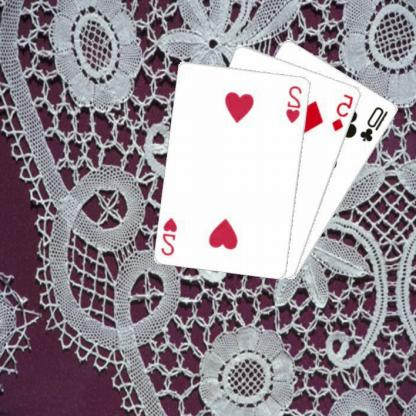10C: (359, 104, 391, 144)
2H: (285, 82, 306, 125), (160, 214, 180, 257)
5D: (331, 91, 357, 133)
